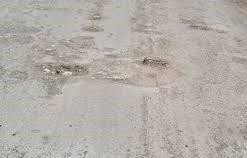pothole: (31, 46, 83, 96), (134, 47, 180, 79)
